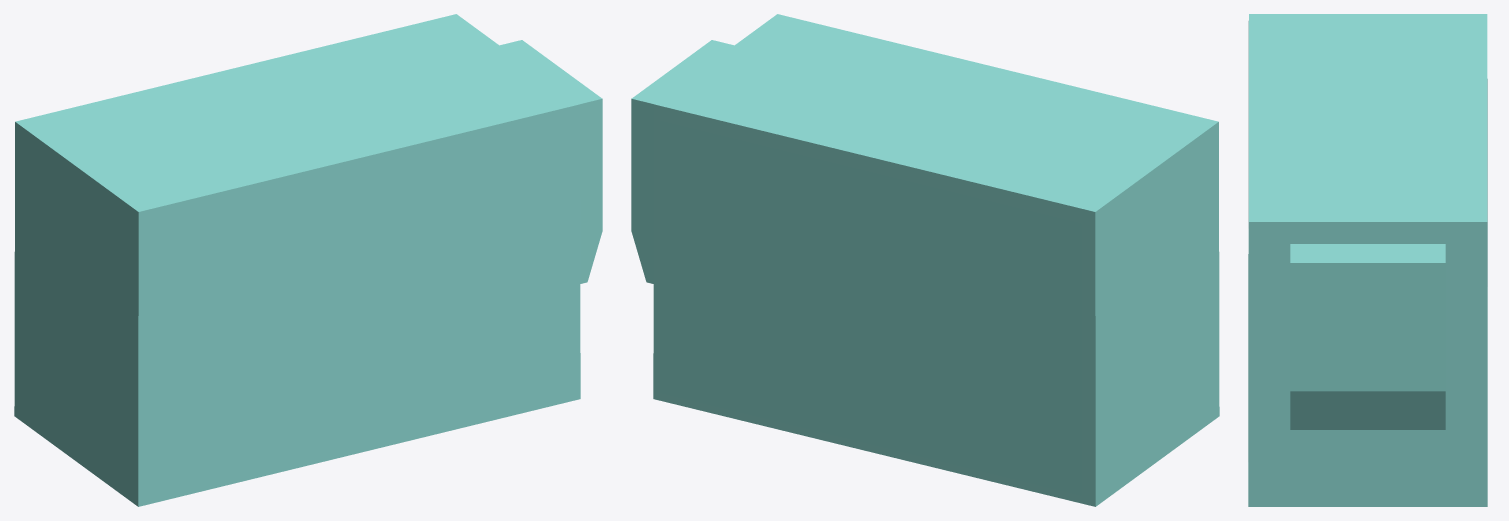
Rendered from AirCoditioner_Collision.fbx.
The picture shows the model from 3 angles, left to right: view 1: azimuth 30°, elevation 25°; view 2: azimuth 150°, elevation 25°; view 3: azimuth 270°, elevation 25°; orthographic projection. The views are drawn at different scales.
Visible parts, largest first — view 1: AirCoditioner_Collision; view 2: AirCoditioner_Collision; view 3: AirCoditioner_Collision.
Part boxes in pixels (x1,y1,x2,y2): AirCoditioner_Collision: (14, 14, 602, 506); AirCoditioner_Collision: (631, 14, 1219, 506); AirCoditioner_Collision: (1248, 14, 1487, 506).
Size of the model in its own units: 1.2 by 0.6968 by 0.5459.
